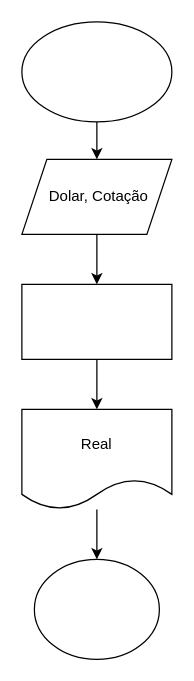
The diagram is 194 pixels wide and 681 high, and some of its shapes have lost their labels. The centre of each missing label's shape, as x and y in pixels:
"inicio" belongs at pixel 96 71.
"Real =Dolar/cotação" belongs at pixel 96 321.
